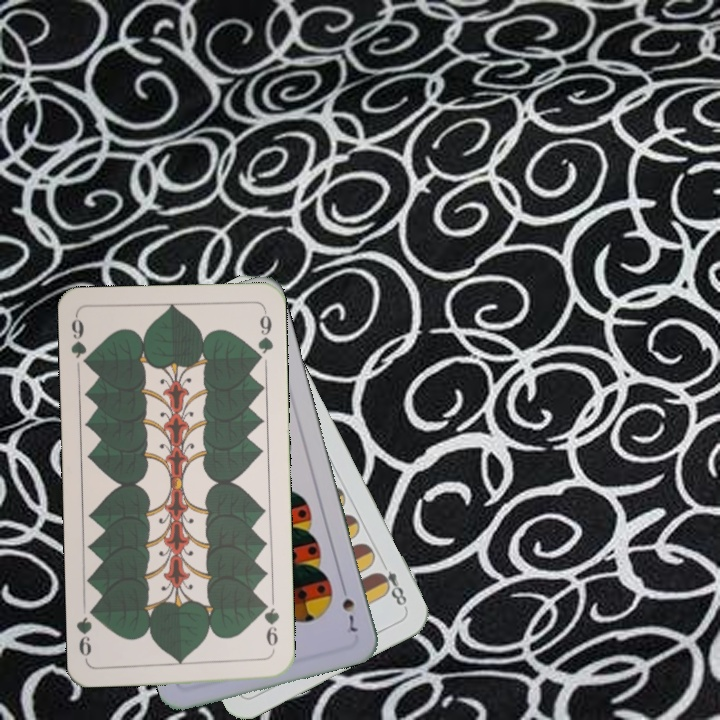E8: (372, 556, 410, 611)
G9: (67, 312, 93, 371), (258, 597, 282, 656)
S7: (337, 579, 361, 635)
